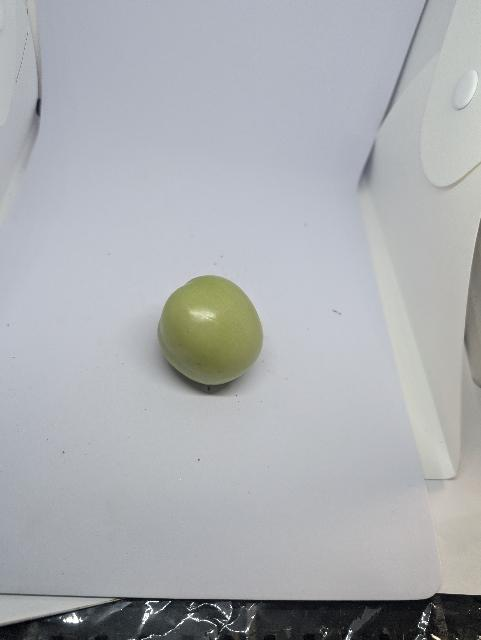green: (156, 273, 265, 390)
